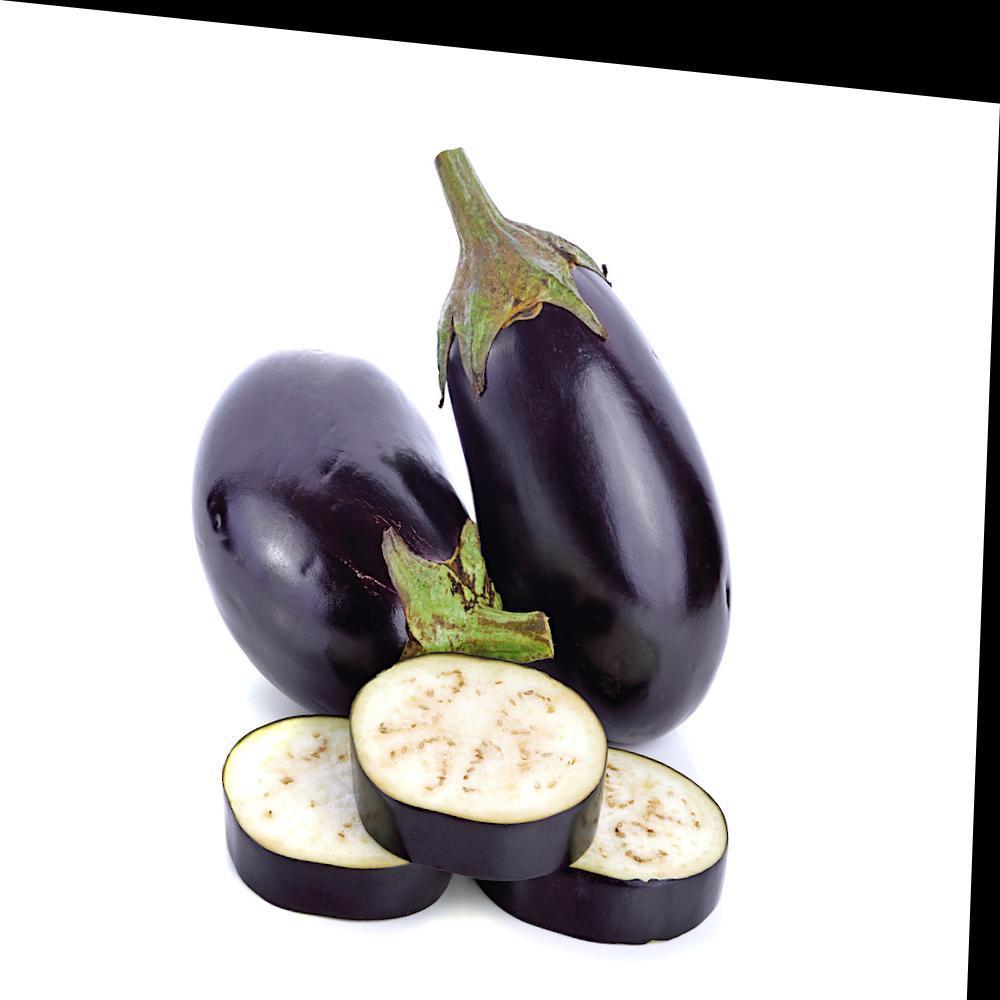eggplant: (366, 98, 862, 922), (120, 294, 472, 919)
